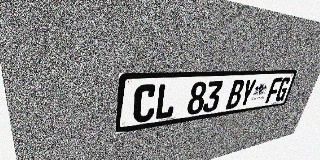3: (202, 81, 224, 113)
8: (186, 81, 209, 115)
B: (225, 79, 246, 109)
C: (132, 84, 158, 124)
F: (265, 77, 283, 103)
G: (274, 77, 291, 102)
L: (154, 83, 178, 120)
Y: (238, 79, 257, 107)
